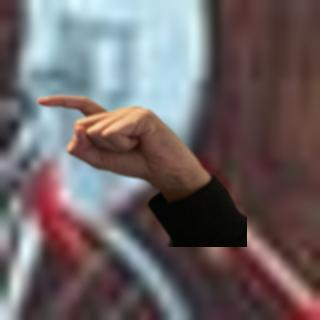WHY: (26, 88, 206, 190)
